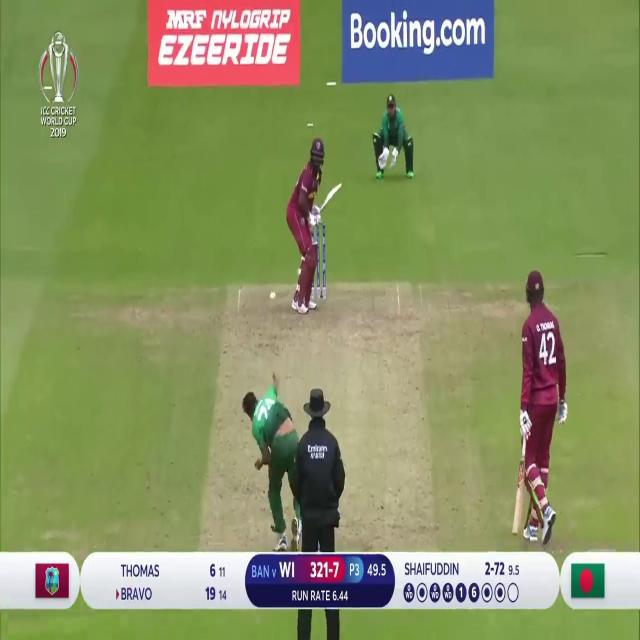ball: (270, 290, 278, 304)
